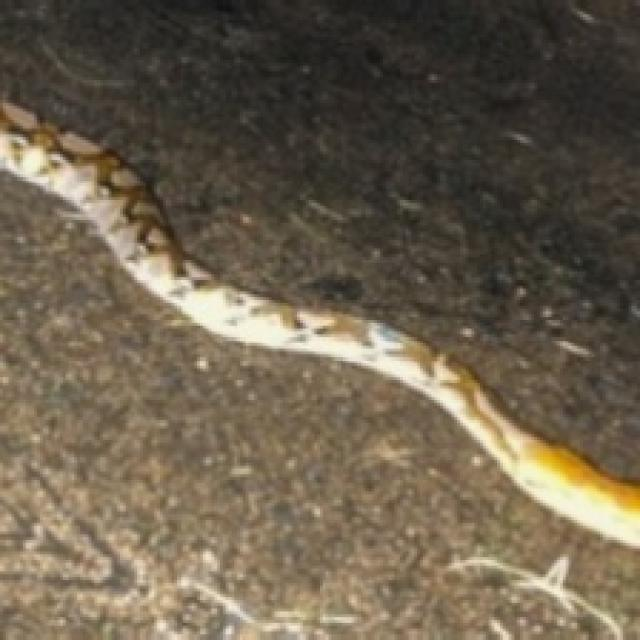reticulated python: (0, 100, 637, 546)
